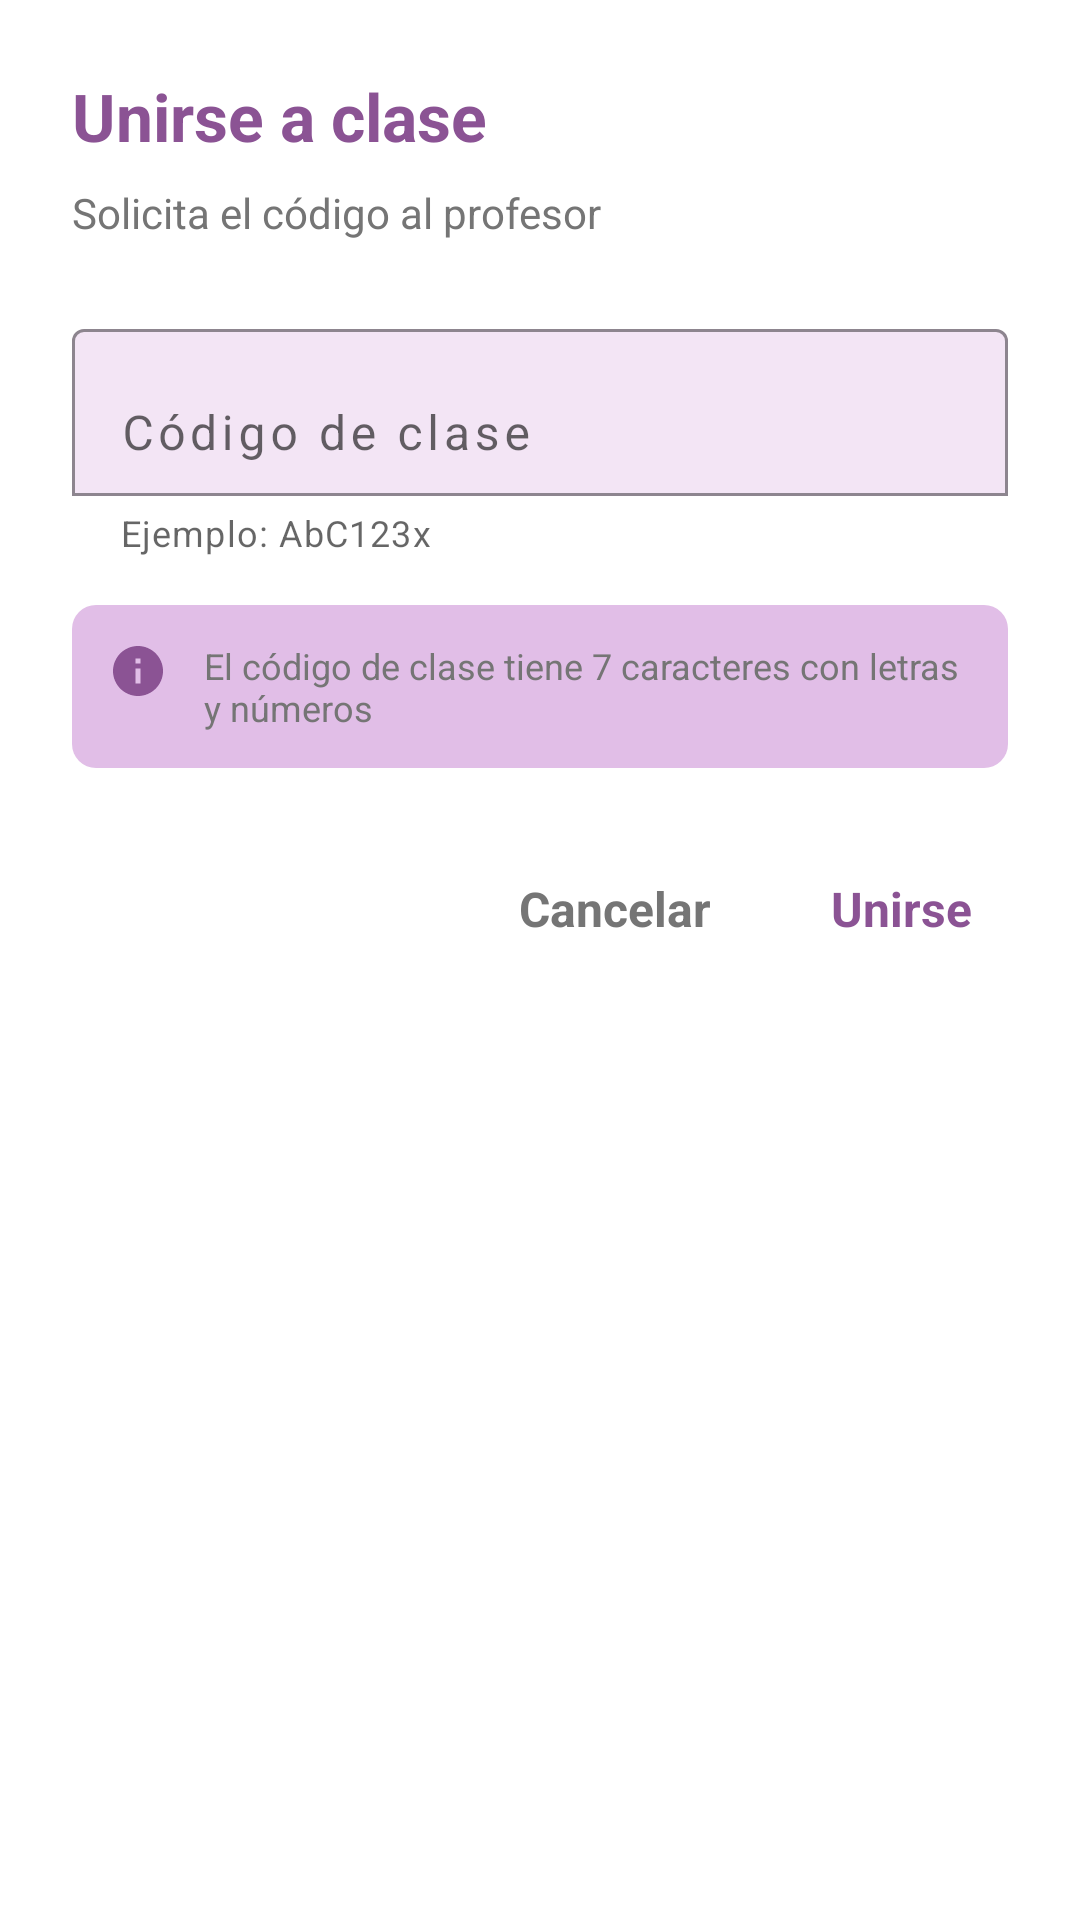

Named icons in this screenshot (1080 x 1920) and their bounding boxes, (x1, y1, x2, y2):
info: (113, 646, 163, 696)
